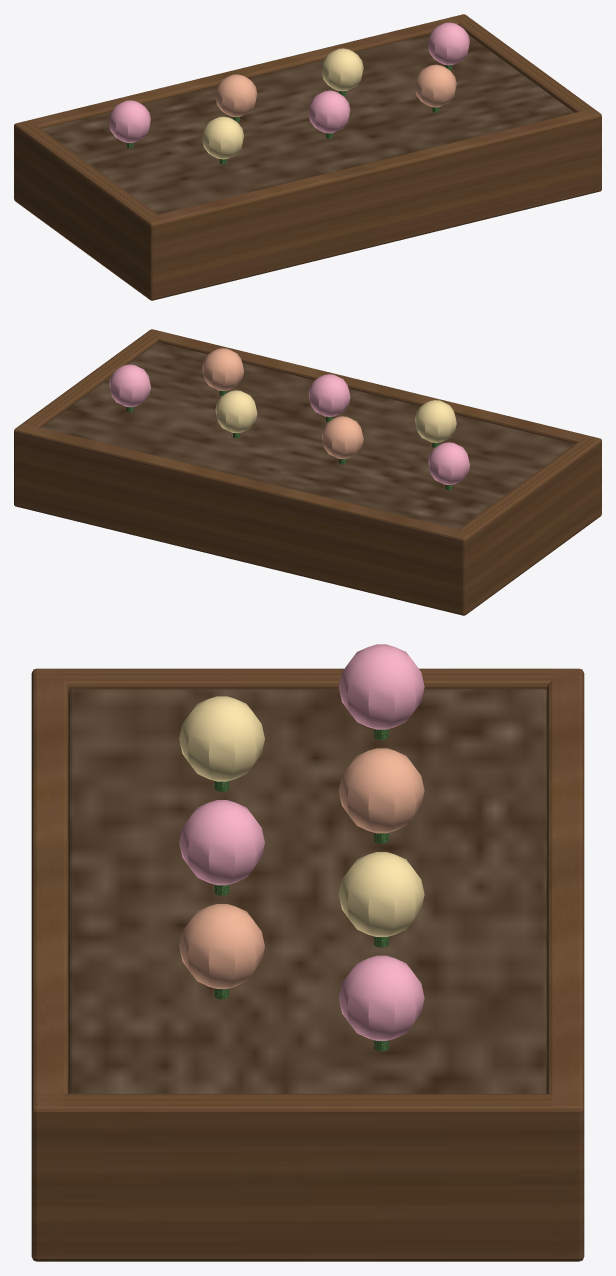
File: flowerbed.glb
The picture shows the model from 3 angles, top to bottom: view 1: azimuth 30°, elevation 25°; view 2: azimuth 150°, elevation 25°; view 3: azimuth 270°, elevation 25°; orthographic projection. The views are drawn at different scales.
Visible parts, largest first — view 1: soil.001, railS, railW, railN, railE, fl4, fl0, fl3, fl6, fl1, fl2, fl5; view 2: soil.001, railN, railW, railS, railE, fl4, fl6, fl1, fl3, fl0, fl5, fl2; view 3: soil.001, railE, railS, railN, railW, fl0, fl3, fl1, fl6, fl2, fl4, fl5.
Boxes of the visible parts, bbox=[...] form: soil.001: bbox=[41, 34, 574, 214]; railS: bbox=[143, 108, 601, 300]; railW: bbox=[14, 120, 164, 300]; railN: bbox=[14, 14, 468, 204]; railE: bbox=[452, 14, 601, 193]; fl4: bbox=[321, 48, 363, 91]; fl0: bbox=[109, 100, 150, 142]; fl3: bbox=[308, 90, 350, 133]; fl6: bbox=[428, 22, 469, 65]; fl1: bbox=[202, 116, 243, 159]; fl2: bbox=[215, 74, 257, 117]; fl5: bbox=[415, 64, 456, 107]; soil.001: bbox=[41, 342, 574, 529]; railN: bbox=[14, 423, 472, 615]; railW: bbox=[451, 435, 601, 615]; railS: bbox=[146, 329, 601, 520]; railE: bbox=[14, 329, 163, 508]; fl4: bbox=[215, 390, 257, 433]; fl6: bbox=[109, 364, 150, 407]; fl1: bbox=[414, 400, 456, 442]; fl3: bbox=[308, 374, 350, 416]; fl0: bbox=[428, 442, 469, 484]; fl5: bbox=[202, 348, 243, 390]; fl2: bbox=[321, 416, 363, 458]; soil.001: bbox=[68, 689, 547, 1093]; railE: bbox=[31, 1094, 584, 1261]; railS: bbox=[31, 668, 68, 1259]; railN: bbox=[547, 668, 584, 1259]; railW: bbox=[32, 668, 583, 691]; fl0: bbox=[338, 644, 424, 729]; fl3: bbox=[179, 800, 264, 885]; fl1: bbox=[179, 696, 264, 781]; fl6: bbox=[338, 955, 424, 1040]; fl2: bbox=[338, 748, 424, 833]; fl4: bbox=[338, 852, 424, 936]; fl5: bbox=[179, 904, 264, 988].
Size of the model in its own units: 1.7 by 0.43 by 0.9.
6 materials, 3 textured.
